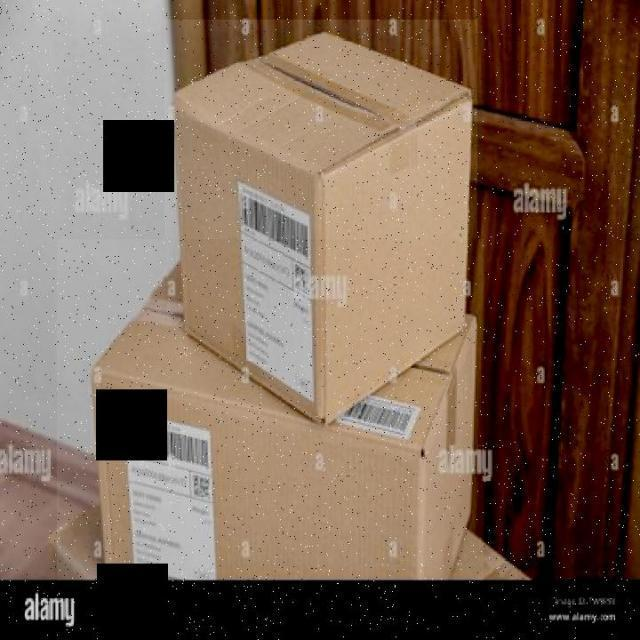box: (56, 239, 484, 581), (165, 19, 478, 430)
